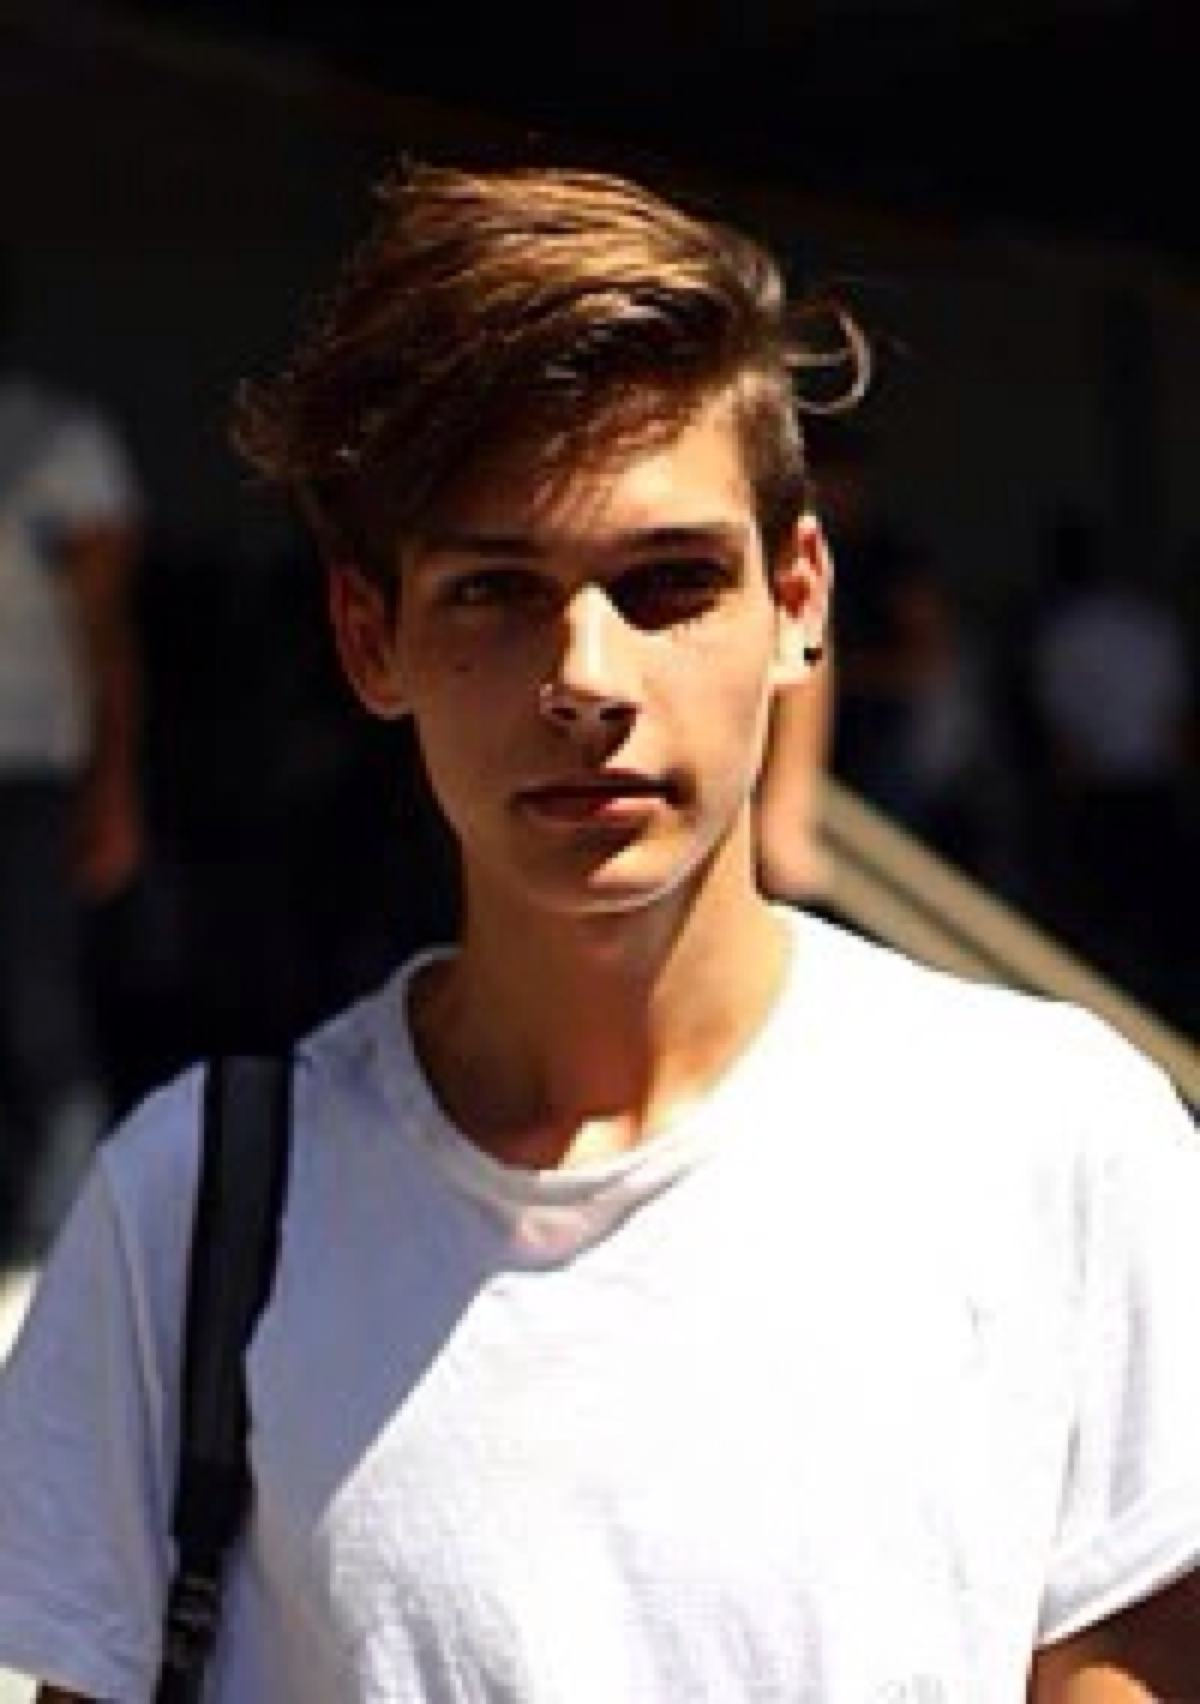person: (184, 115, 1200, 1672)
